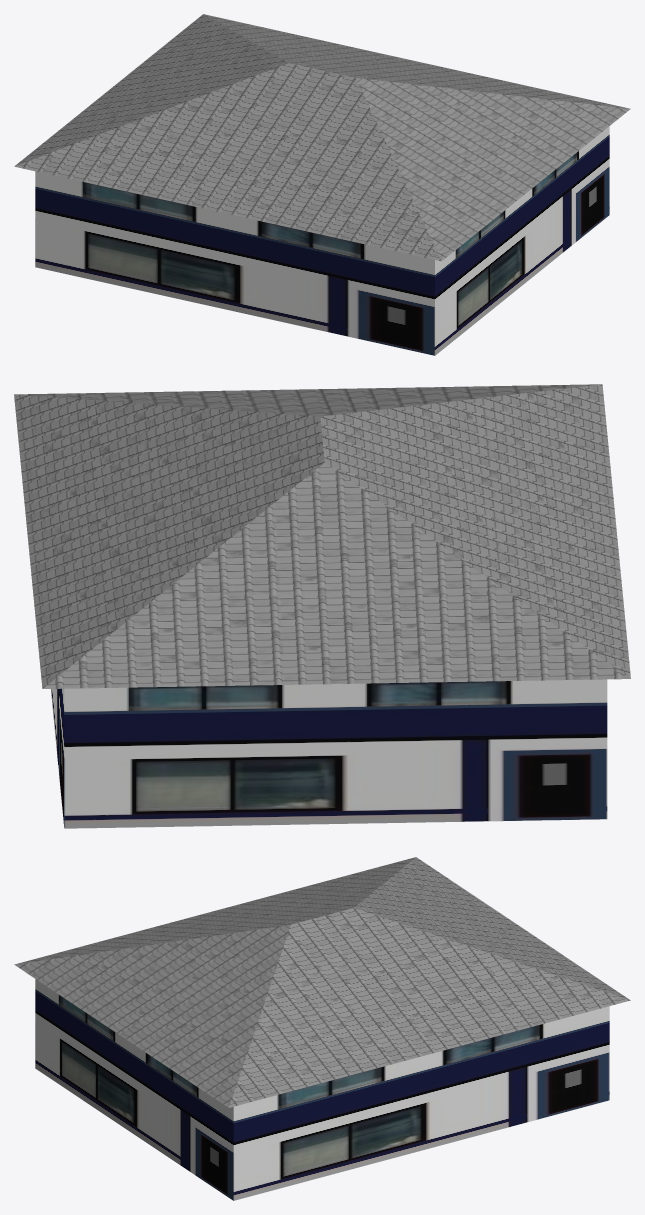
The picture shows the model from 3 angles, top to bottom: view 1: azimuth 30°, elevation 25°; view 2: azimuth 150°, elevation 25°; view 3: azimuth 270°, elevation 25°; orthographic projection. The views are drawn at different scales.
Visible parts, largest first — view 1: CityEngineMaterial_4_m, CityEngineMaterial_2_m; view 2: CityEngineMaterial_4_m, CityEngineMaterial_2_m; view 3: CityEngineMaterial_4_m, CityEngineMaterial_2_m.
Part boxes in pixels (x1,y1,x2,y2): CityEngineMaterial_4_m: [14, 14, 630, 261]; CityEngineMaterial_2_m: [35, 126, 609, 355]; CityEngineMaterial_4_m: [14, 384, 630, 688]; CityEngineMaterial_2_m: [51, 679, 607, 828]; CityEngineMaterial_4_m: [14, 857, 630, 1107]; CityEngineMaterial_2_m: [35, 979, 609, 1200].
Size of the model in its own units: 35.86 by 11.21 by 37.25.
